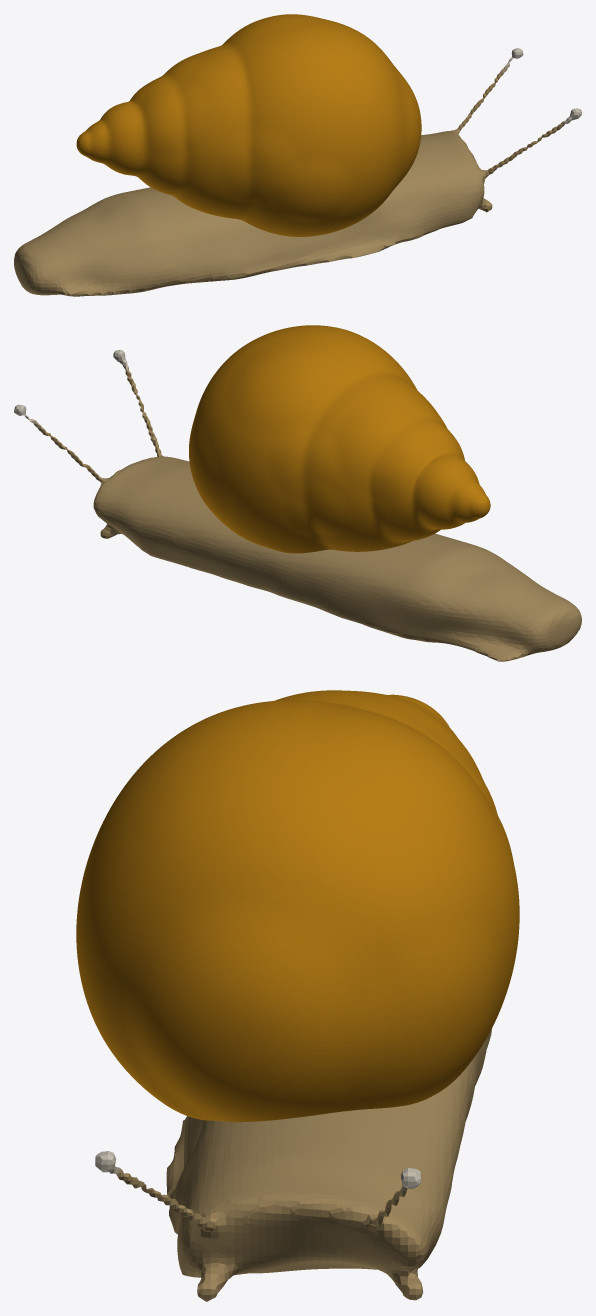
The model's file is snail.fbx.
3 views of the same model, one above another, from view 1: azimuth 30°, elevation 25°; view 2: azimuth 150°, elevation 25°; view 3: azimuth 270°, elevation 25° (orthographic). The views are drawn at different scales.
Parts seen in each view (by area): view 1: yourMesh; view 2: yourMesh; view 3: yourMesh.
Boxes of the visible parts, x1,y1,x2,y2 form: yourMesh: (14, 14, 581, 296); yourMesh: (14, 325, 581, 661); yourMesh: (76, 690, 519, 1301).
Bounding box in the file's own units: 11006 × 4465 × 4125.
